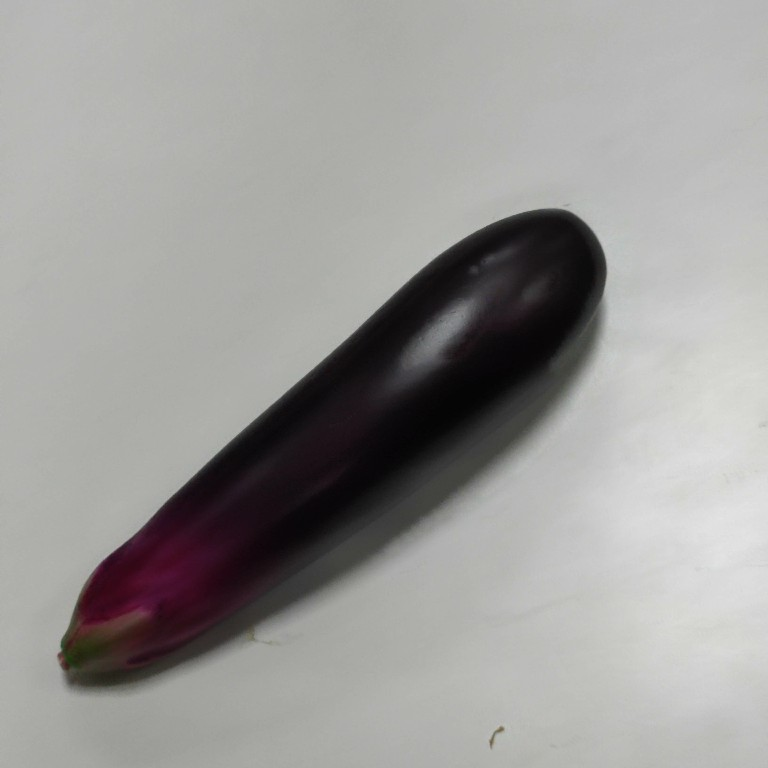fruit_eggplant: (52, 207, 613, 696)
